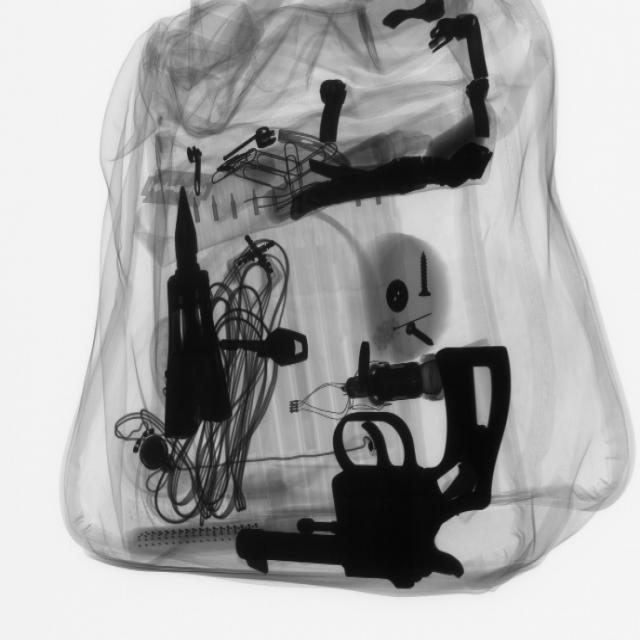GUN: (244, 344, 519, 590)
SCREW: (412, 247, 447, 307), (401, 313, 447, 358)
